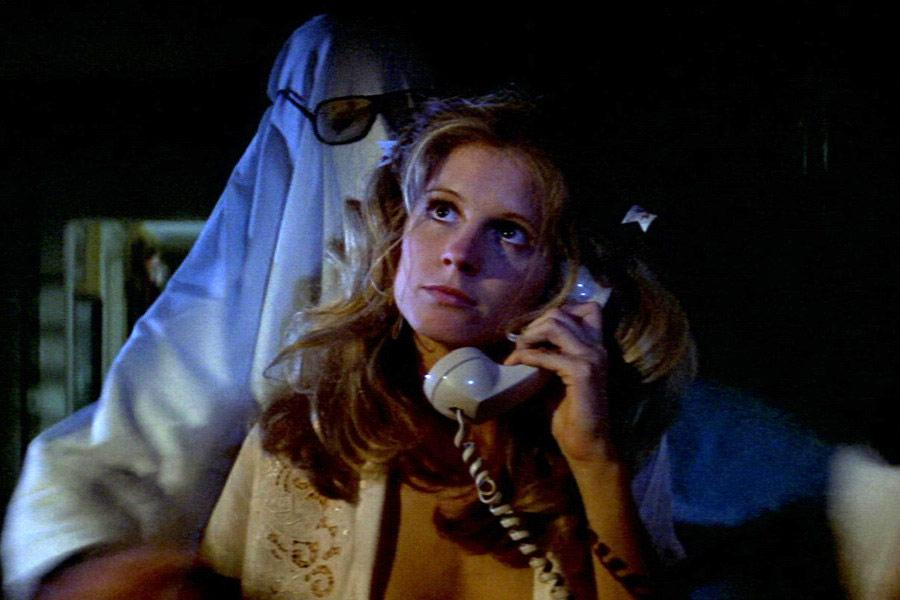person: (186, 105, 671, 600)
